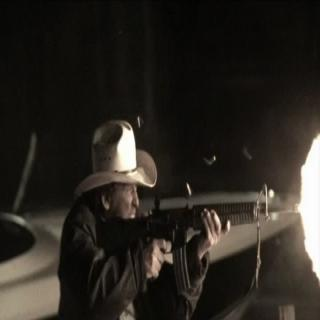gun: (105, 178, 301, 304)
